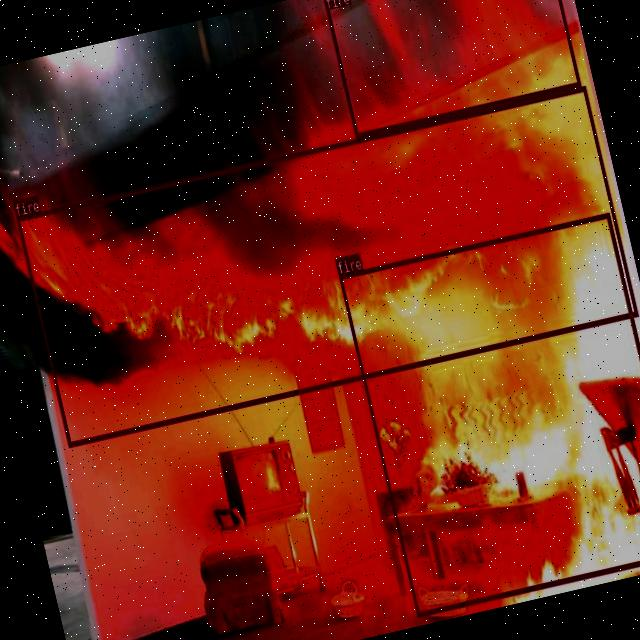fire: (15, 85, 638, 446), (337, 211, 640, 616), (321, 0, 580, 137)
